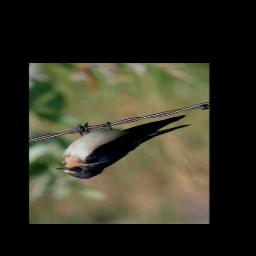Swallow: (55, 112, 192, 181)
